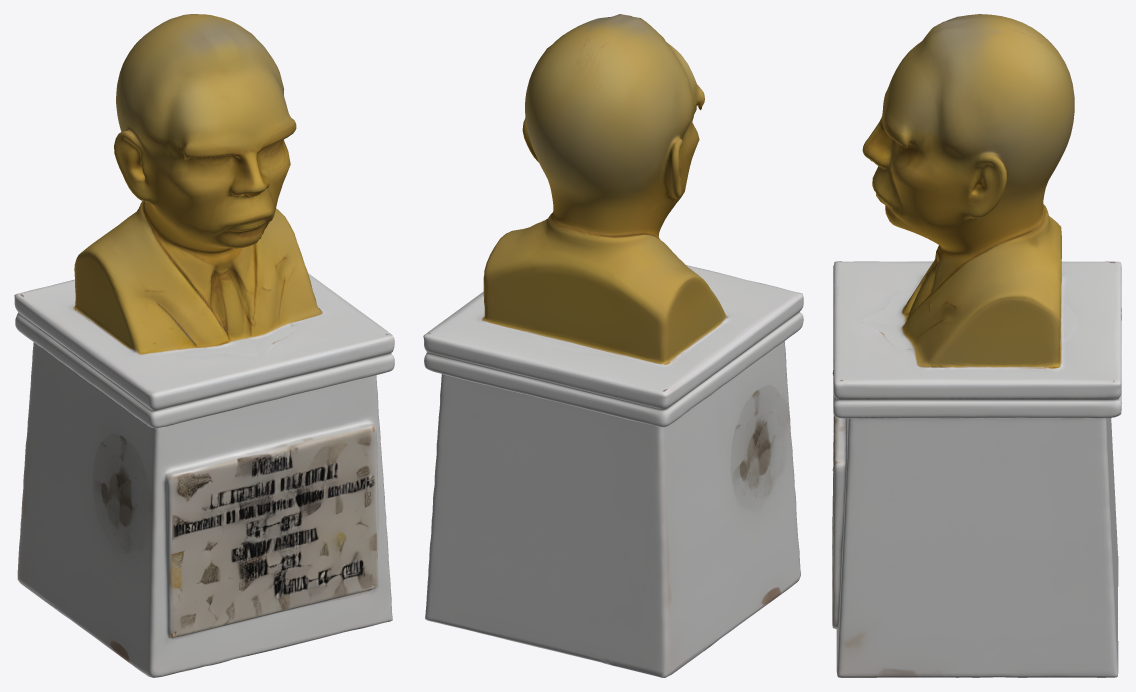
The model's file is gustavito.glb.
The picture shows the model from 3 angles, left to right: view 1: azimuth 30°, elevation 25°; view 2: azimuth 150°, elevation 25°; view 3: azimuth 270°, elevation 25°; orthographic projection. The views are drawn at different scales.
Visible parts, largest first — view 1: model; view 2: model; view 3: model.
Part boxes in pixels (<box>): model: <box>14,14,394,677</box>; model: <box>423,14,803,677</box>; model: <box>832,14,1121,677</box>.
Size of the model in its own units: 0.8447 by 1.91 by 0.8404.
Materials: 1 (1 with a texture image).
